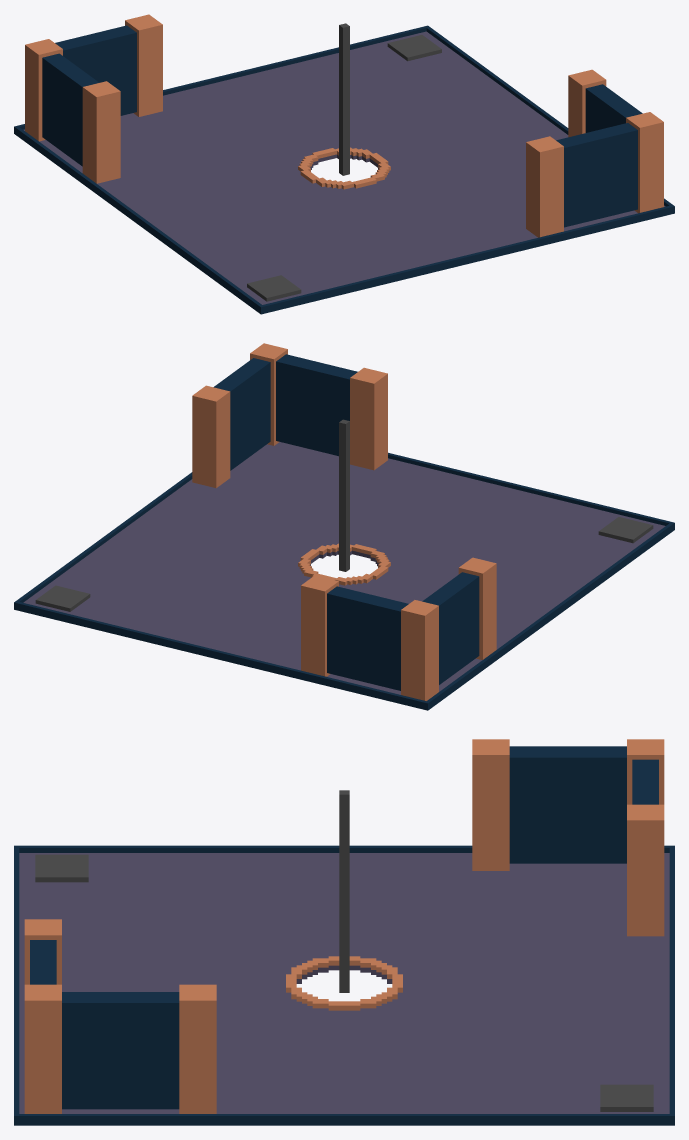
File: map1.obj
3 views of the same model, one above another, from view 1: azimuth 30°, elevation 25°; view 2: azimuth 150°, elevation 25°; view 3: azimuth 270°, elevation 25° (orthographic). The views are drawn at different scales.
Bounding box in the file's own units: 12 × 4.1 × 12.4.
Materials: 1 (1 with a texture image).
